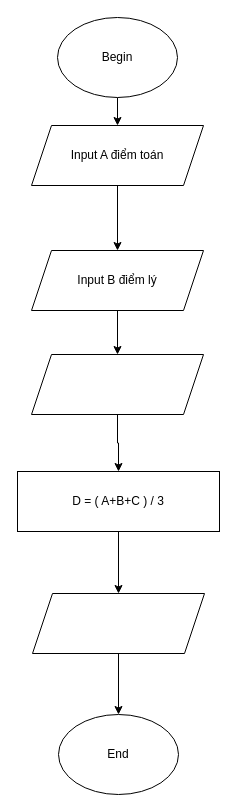
The diagram is 237 pixels wide and 812 high, and some of its shapes have lost their labels. The shapes that lost their labels are listed below. From the top down, each one's centre as x and y in pixels, then its label:
At point 117,384: "input C điểm lý".
At point 118,623: "Display D".
